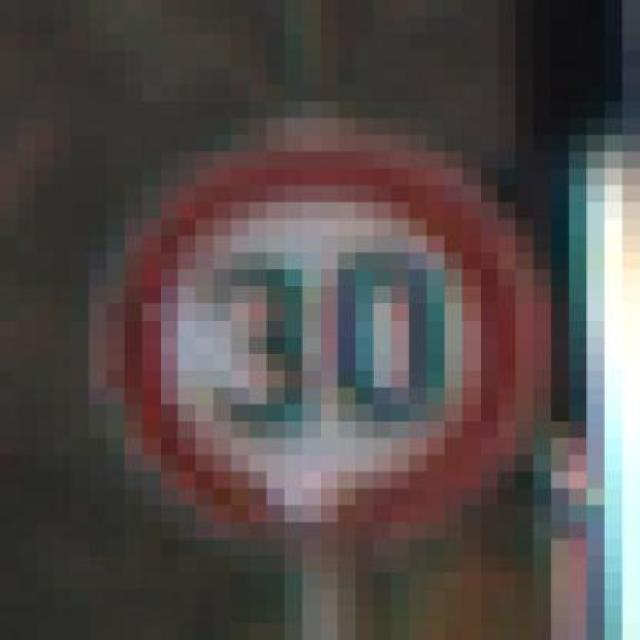Speed Limit 30 KMPh: (71, 67, 569, 573)
